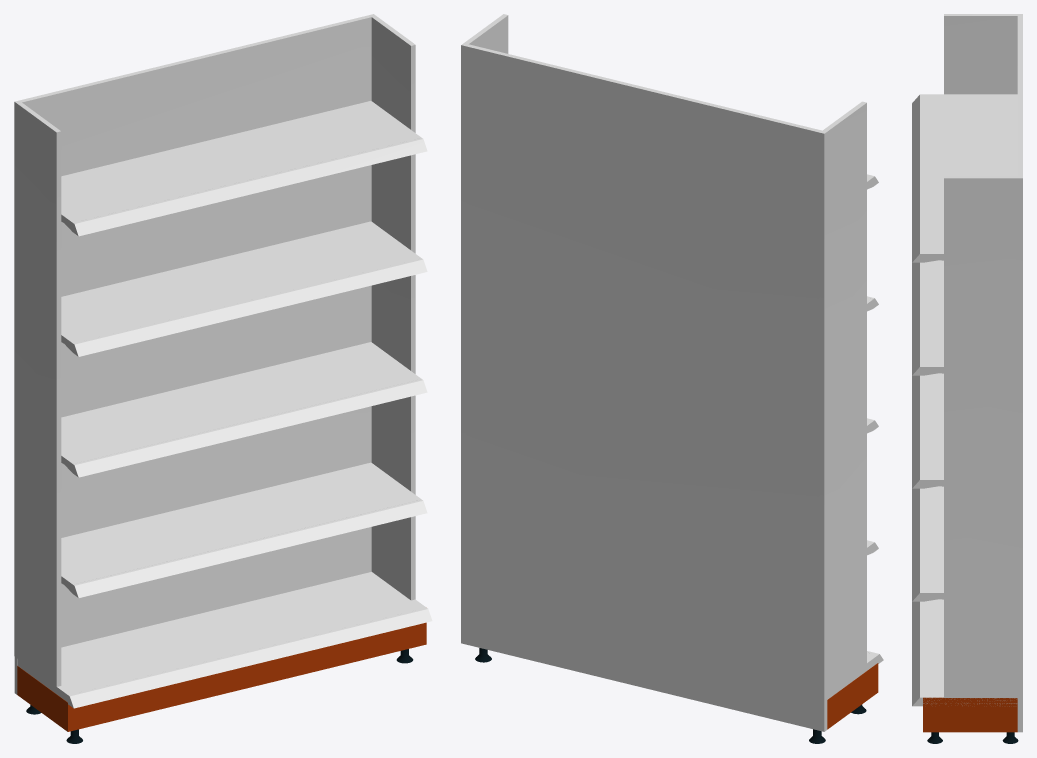
File: Shelf2.fbx
3 views of the same model, side by side, from view 1: azimuth 30°, elevation 25°; view 2: azimuth 150°, elevation 25°; view 3: azimuth 270°, elevation 25° (orthographic). The views are drawn at different scales.
Visible parts, largest first — view 1: Shelf4; view 2: Shelf4; view 3: Shelf4.
Part boxes in pixels (left/top/right/bottom): Shelf4: left=14, top=14, right=432, bottom=743; Shelf4: left=461, top=14, right=883, bottom=743; Shelf4: left=912, top=14, right=1022, bottom=743.
Size of the model in its own units: 151 by 244 by 43.05.
